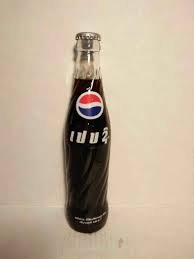pepsi: (74, 89, 107, 123)
